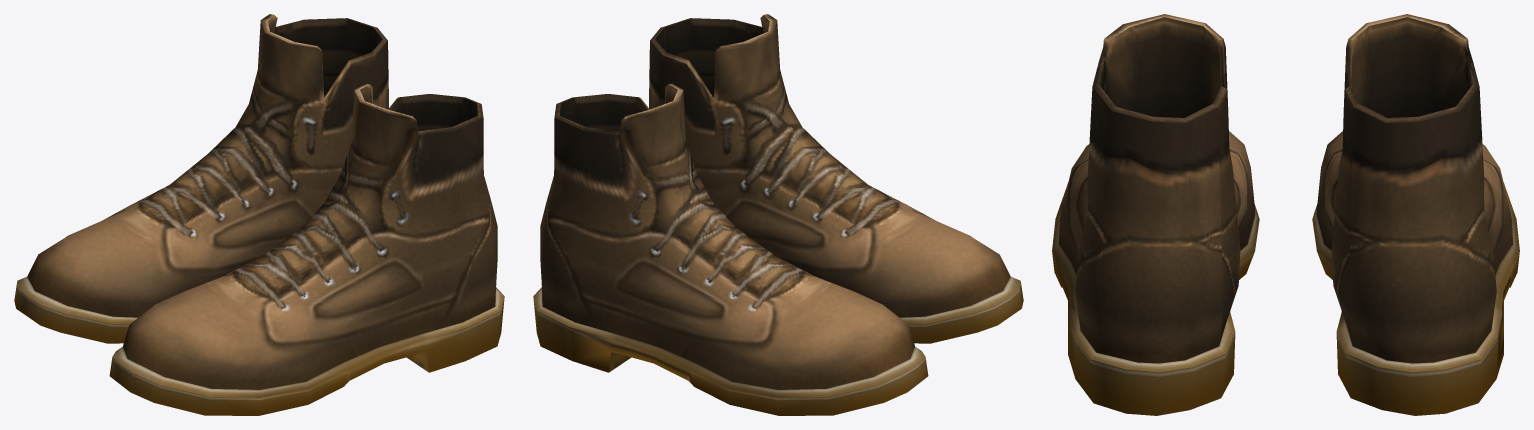
Rendered from ShaShouJia_01_junxue_01.FBX.
3 renders of one model, left to right at view 1: azimuth 30°, elevation 25°; view 2: azimuth 150°, elevation 25°; view 3: azimuth 270°, elevation 25°, orthographic. The views are drawn at different scales.
Parts seen in each view (by area): view 1: PiErSenDeGongYu_junxie_01; view 2: PiErSenDeGongYu_junxie_01; view 3: PiErSenDeGongYu_junxie_01.
Part boxes in pixels (<box>): PiErSenDeGongYu_junxie_01: <box>14,14,504,415</box>; PiErSenDeGongYu_junxie_01: <box>533,14,1023,415</box>; PiErSenDeGongYu_junxie_01: <box>1052,14,1519,415</box>.
Size of the model in its own units: 215 by 138 by 182.
